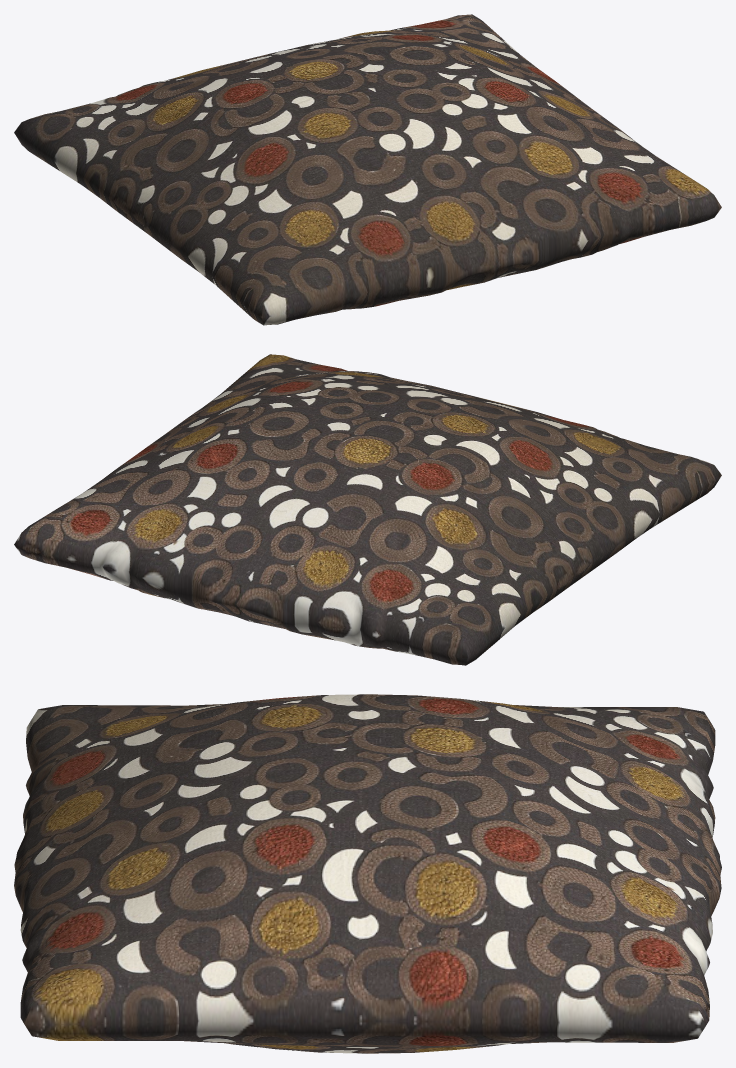
The model's file is pillow_3.fbx.
The picture shows the model from 3 angles, top to bottom: view 1: azimuth 30°, elevation 25°; view 2: azimuth 150°, elevation 25°; view 3: azimuth 270°, elevation 25°; orthographic projection. The views are drawn at different scales.
Visible parts, largest first — view 1: group_0; view 2: group_0; view 3: group_0.
Part boxes in pixels (<box>): group_0: <box>14,14,721,325</box>; group_0: <box>14,354,721,665</box>; group_0: <box>14,694,721,1053</box>.
Size of the model in its own units: 42.14 by 15.6 by 41.08.
1 material, 1 textured.
